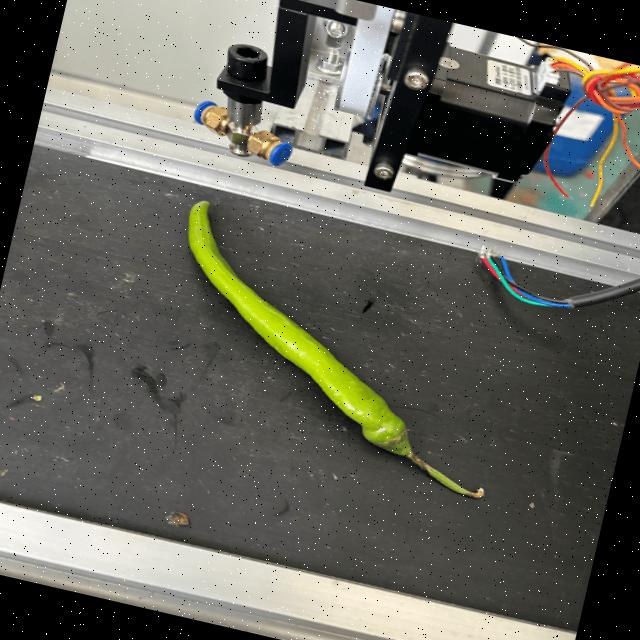chili: (184, 197, 410, 458)
